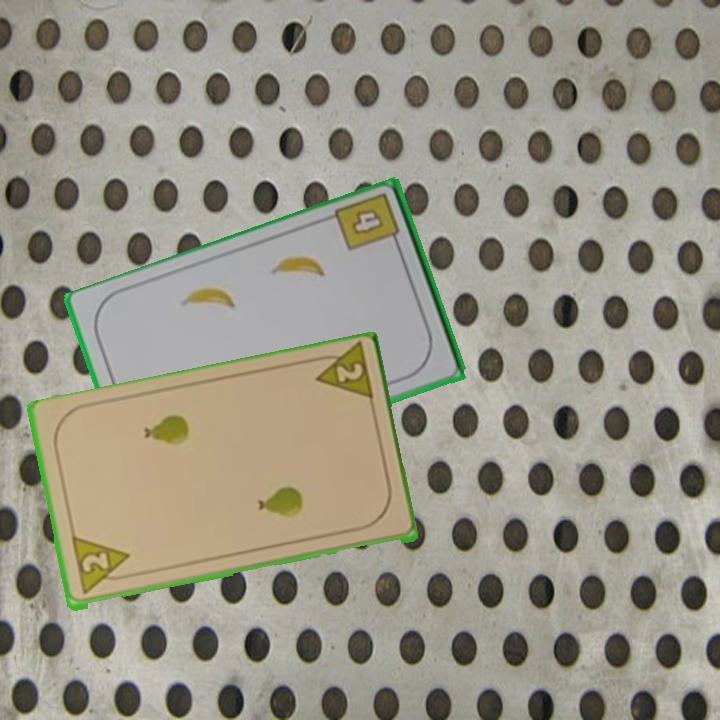2p: (306, 342, 376, 407), (68, 534, 135, 598)
4b: (332, 189, 403, 255)
